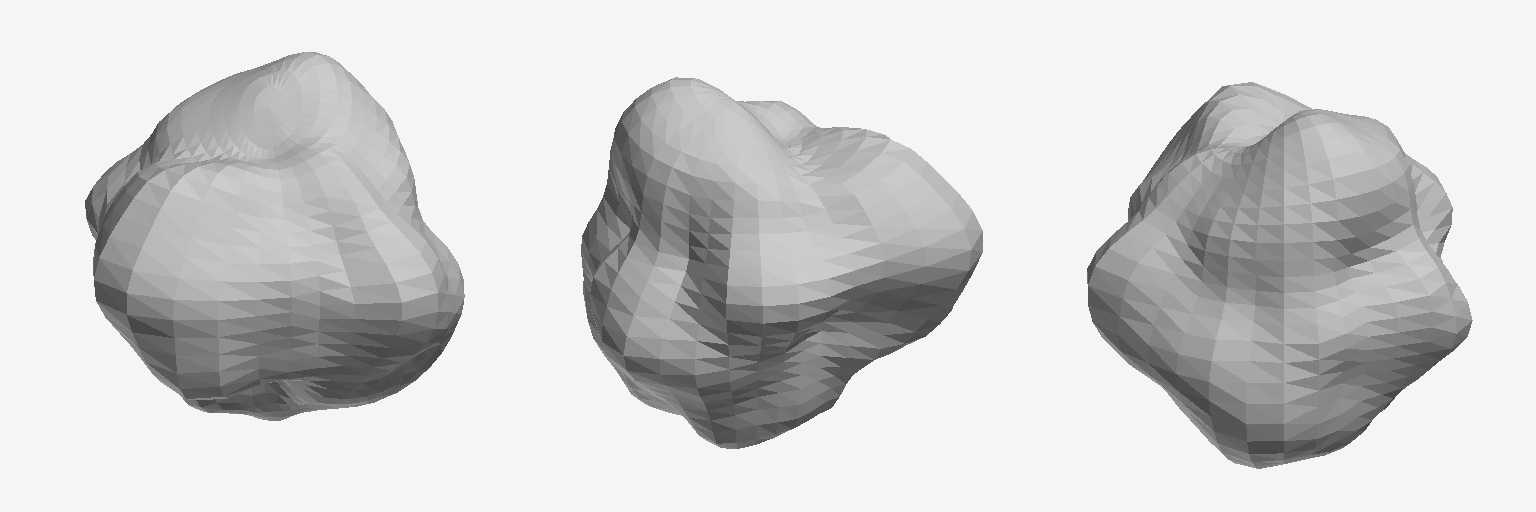
The model's file is asteroid.obj.
The picture shows the model from 3 angles: view 1: azimuth 30°, elevation 25°; view 2: azimuth 150°, elevation 25°; view 3: azimuth 270°, elevation 25°; orthographic projection.
Visible parts, largest first — view 1: Asteroid_Sphere; view 2: Asteroid_Sphere; view 3: Asteroid_Sphere.
Part boxes in pixels (bbox=[...]): Asteroid_Sphere: bbox=[85, 52, 464, 420]; Asteroid_Sphere: bbox=[581, 77, 982, 448]; Asteroid_Sphere: bbox=[1087, 82, 1472, 468].
Size of the model in its own units: 1.04 by 0.9289 by 0.9506.